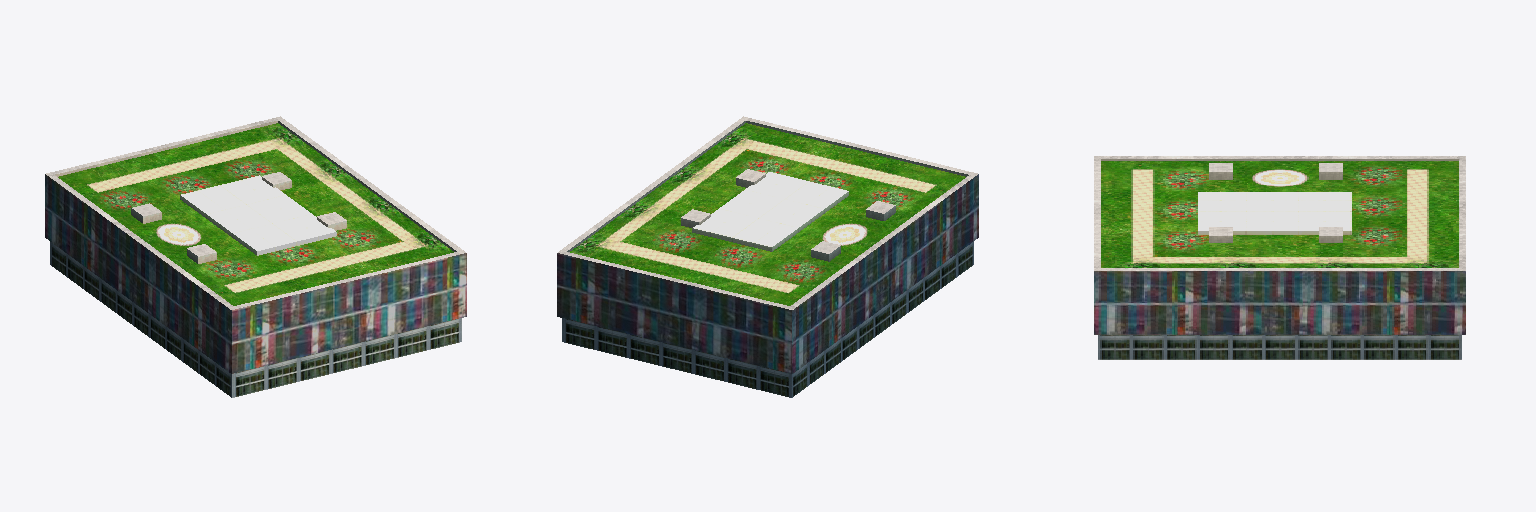
3 renders of one model, left to right at view 1: azimuth 30°, elevation 25°; view 2: azimuth 150°, elevation 25°; view 3: azimuth 270°, elevation 25°, orthographic.
Parts seen in each view (by area): view 1: 1_B2; view 2: 1_B2; view 3: 1_B2.
Boxes of the visible parts, <box> form: 1_B2: <box>45,116,466,397</box>; 1_B2: <box>557,116,978,397</box>; 1_B2: <box>1094,156,1465,359</box>.
Bounding box in the file's own units: 39.58 × 15.29 × 54.3.
Materials: 1 (1 with a texture image).